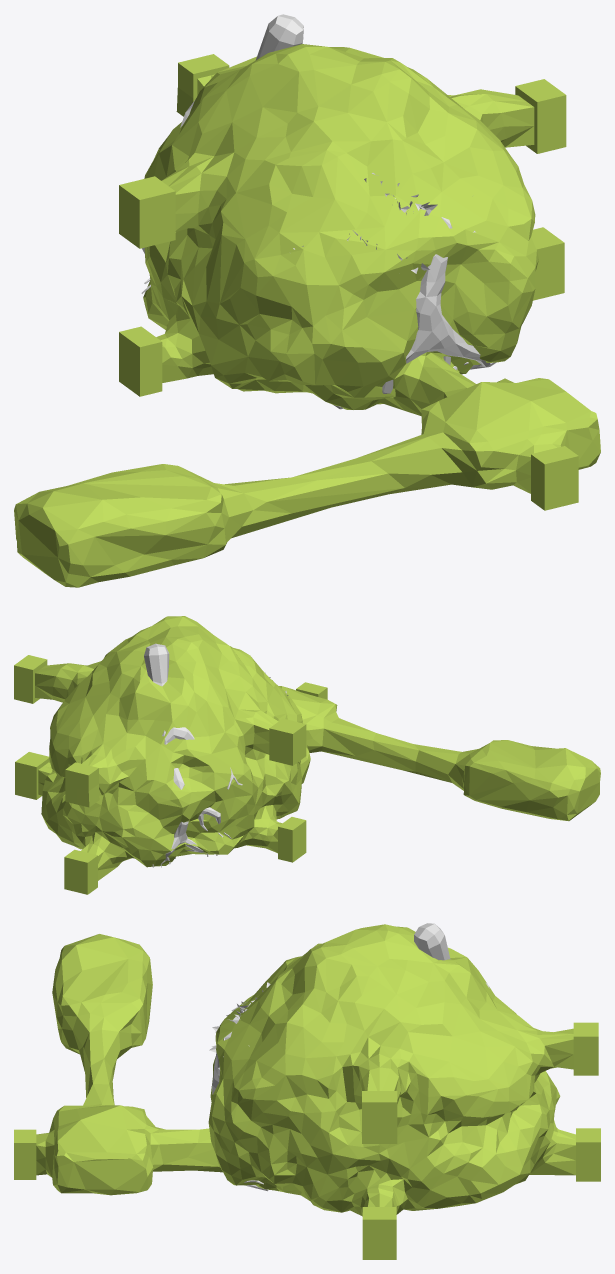
Rendered from TreeLevel_Cave_Tree.fbx.
The picture shows the model from 3 angles, top to bottom: view 1: azimuth 30°, elevation 25°; view 2: azimuth 150°, elevation 25°; view 3: azimuth 270°, elevation 25°; orthographic projection. The views are drawn at different scales.
Parts seen in each view (by area): view 1: PoziomTestDeciamte, DuzeDrzewo, Korzeń_Duży; view 2: PoziomTestDeciamte, Korzeń_Duży; view 3: PoziomTestDeciamte, Korzeń_Duży, DuzeDrzewo.
Boxes of the visible parts, <box> form: PoziomTestDeciamte: <box>14,44,600,587</box>; DuzeDrzewo: <box>293,173,496,409</box>; Korzeń_Duży: <box>141,14,303,293</box>; PoziomTestDeciamte: <box>14,616,600,894</box>; Korzeń_Duży: <box>144,643,242,867</box>; PoziomTestDeciamte: <box>14,924,600,1259</box>; Korzeń_Duży: <box>414,923,489,988</box>; DuzeDrzewo: <box>209,982,270,1191</box>.
Bounding box in the file's own units: 13670 × 5710 × 12511.
